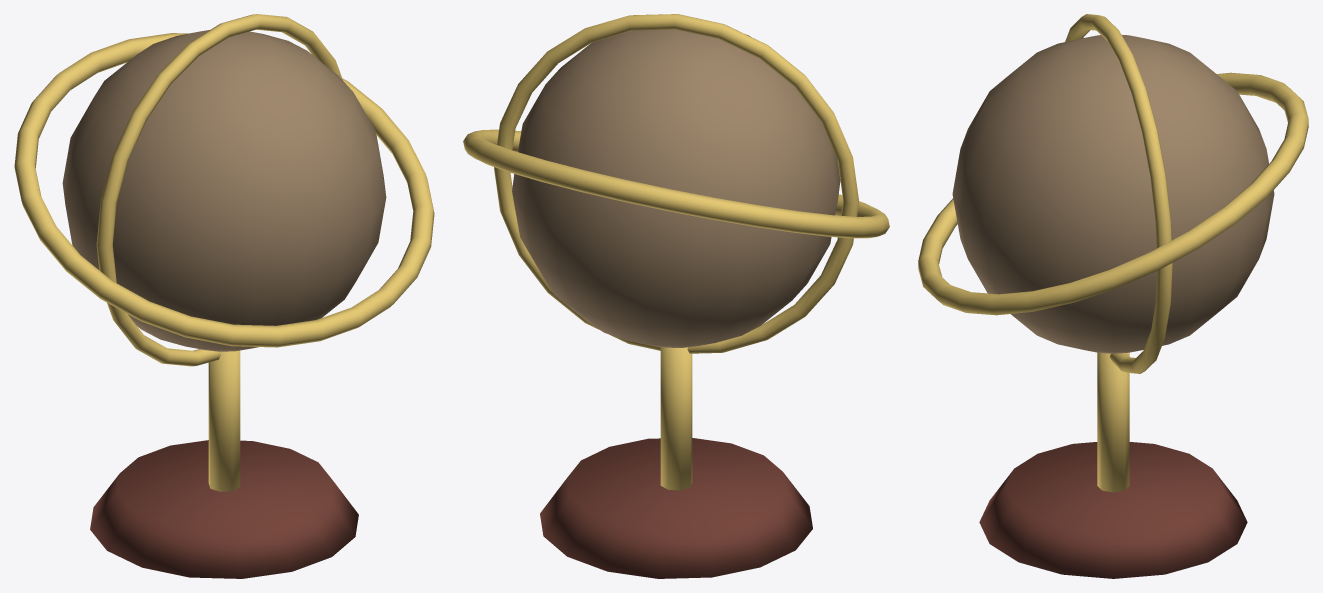
The model's file is globe_world.glb.
The picture shows the model from 3 angles, left to right: view 1: azimuth 30°, elevation 25°; view 2: azimuth 150°, elevation 25°; view 3: azimuth 270°, elevation 25°; orthographic projection. The views are drawn at different scales.
Parts seen in each view (by area): view 1: GD_globe_world__m2, GD_globe_world__m1, GD_globe_world__m0; view 2: GD_globe_world__m2, GD_globe_world__m1, GD_globe_world__m0; view 3: GD_globe_world__m2, GD_globe_world__m0, GD_globe_world__m1.
Part boxes in pixels (x1=…): GD_globe_world__m2: x1=62, y1=30, x2=386, y2=351; GD_globe_world__m1: x1=14, y1=14, x2=434, y2=491; GD_globe_world__m0: x1=90, y1=440, x2=358, y2=578; GD_globe_world__m2: x1=512, y1=29, x2=840, y2=347; GD_globe_world__m1: x1=463, y1=14, x2=889, y2=490; GD_globe_world__m0: x1=540, y1=438, x2=812, y2=578; GD_globe_world__m2: x1=952, y1=35, x2=1274, y2=353; GD_globe_world__m0: x1=979, y1=442, x2=1247, y2=578; GD_globe_world__m1: x1=918, y1=14, x2=1308, y2=492.
Size of the model in its own units: 0.316 by 0.406 by 0.2911.
